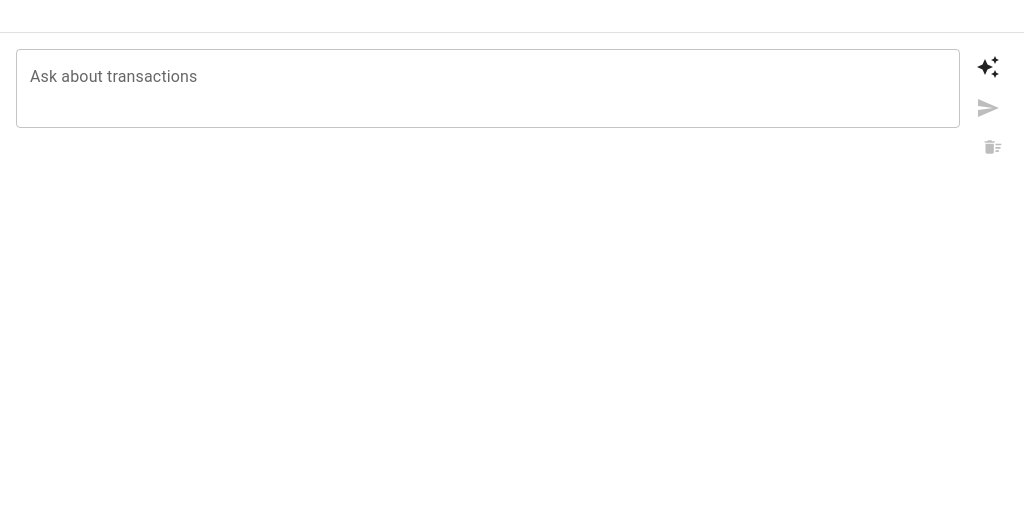
Scenario: AiChat consent flow › renders the consent card while the loop waits and forwards the decision
Type "Add a Fuel category" into the text box labelled "Ask about transactions". click: coordinates (488, 88)
box: [30,66,946,112]
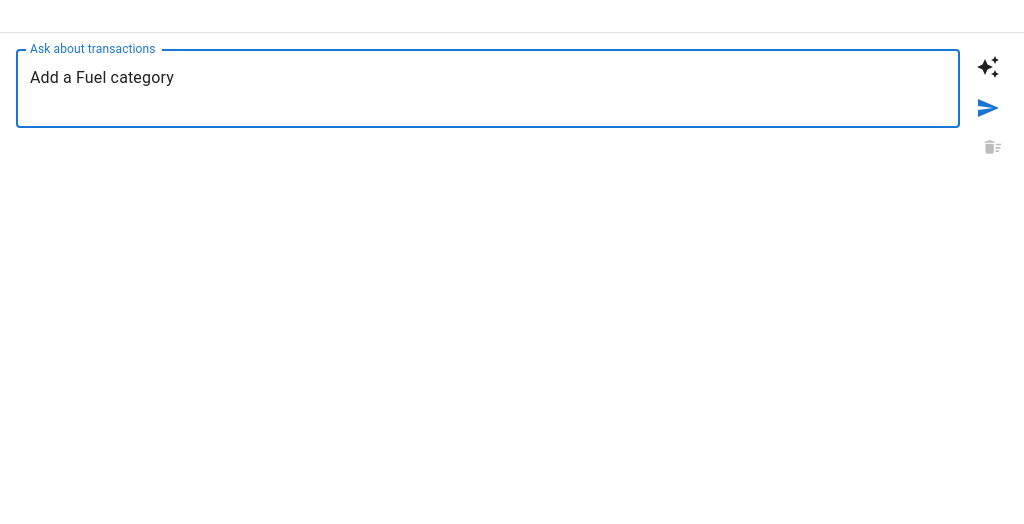
Click the button named "Send AI prompt". click: coordinates (988, 108)
box: [968,88,1008,128]
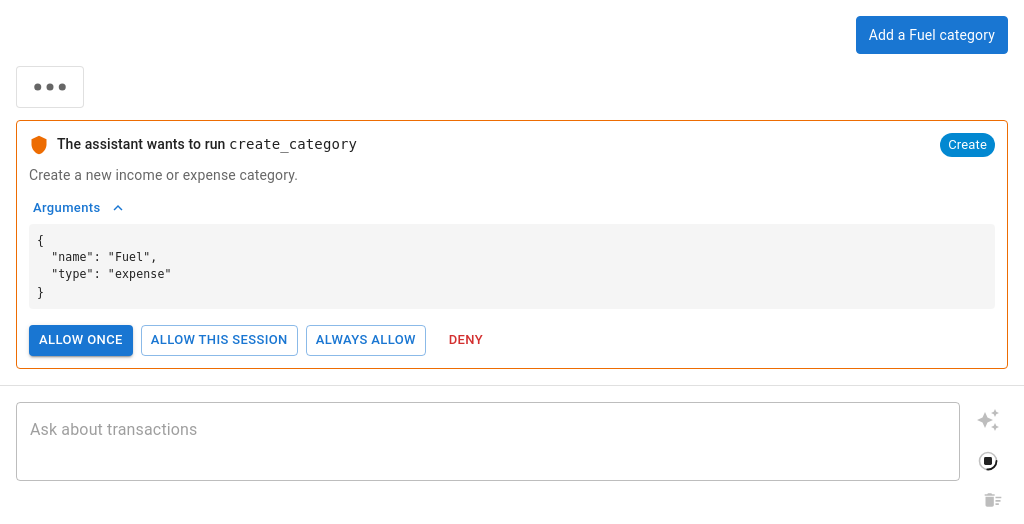
expect the element with test id "ai-consent-card" shows "create_category": met, box [229,136,357,152]
expect the element with test id "ai-consent-card" shows "\"name\": \"Fuel\"": met, box [37,233,172,299]
Click the button "Always allow". click: coordinates (366, 340)
box: [306,325,426,356]
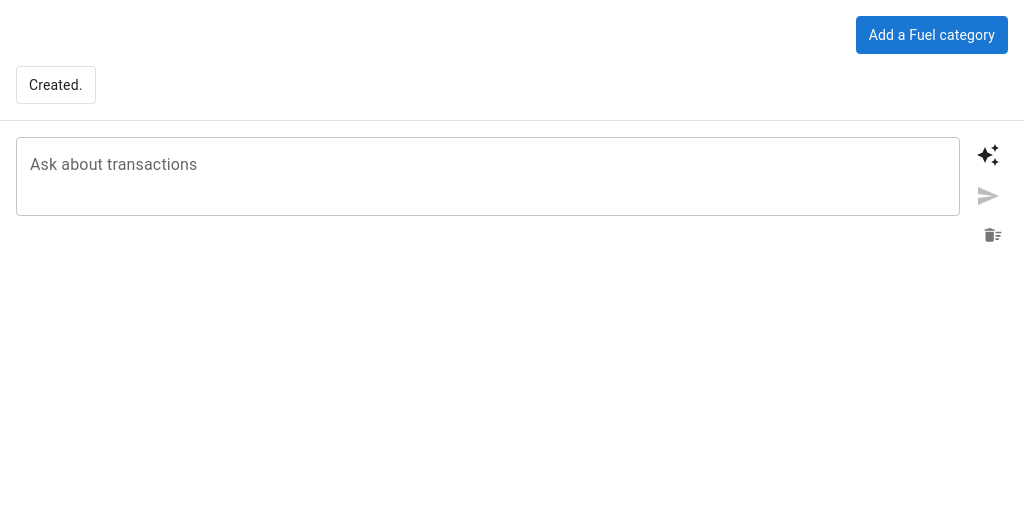
expect the text "Created." is shown: met, box [29,75,83,95]
expect the element with test id "ai-consent-card" is gone: met
